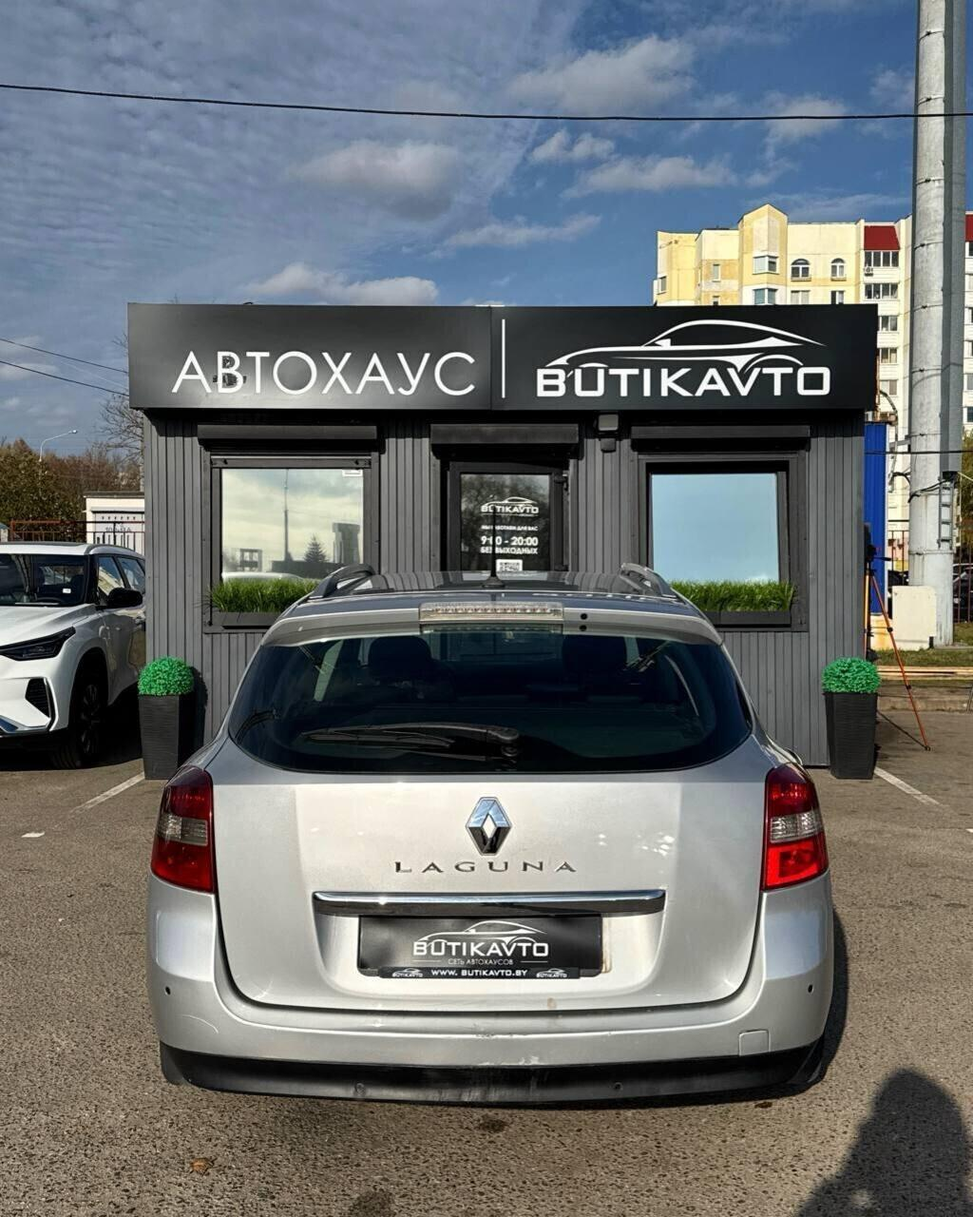Laguna_2007-2011: (148, 562, 833, 1105)
